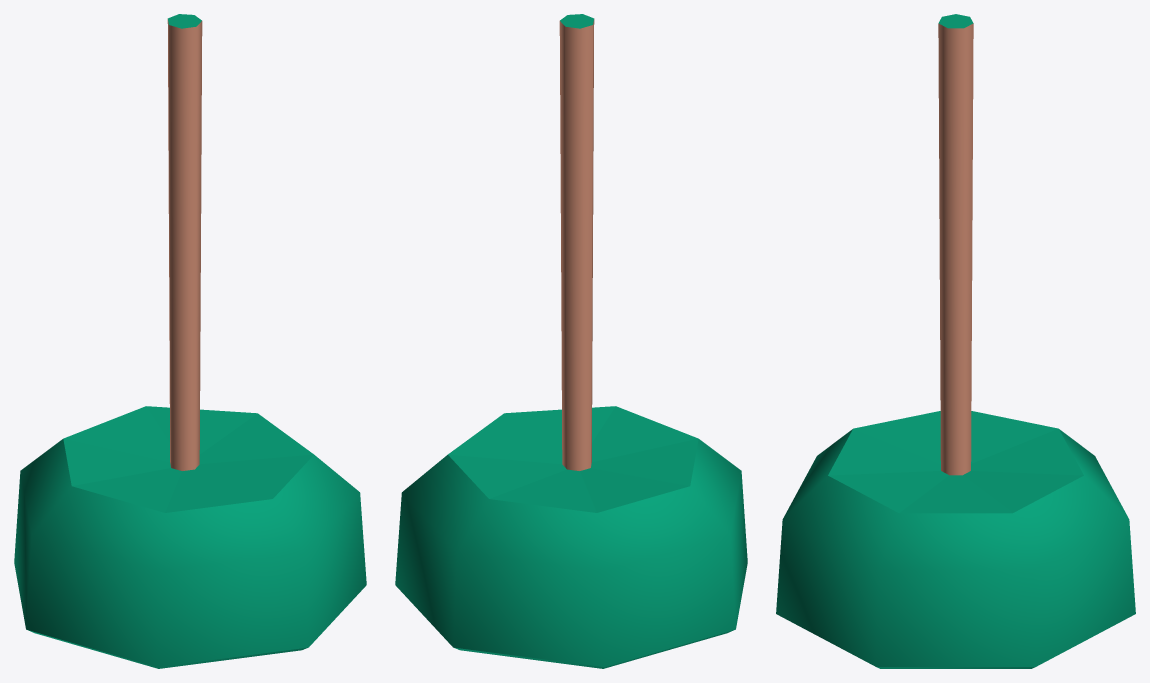
Rendered from Light_Green.fbx.
3 views of the same model, side by side, from view 1: azimuth 30°, elevation 25°; view 2: azimuth 150°, elevation 25°; view 3: azimuth 270°, elevation 25° (orthographic).
Parts seen in each view (by area): view 1: Light_Green; view 2: Light_Green; view 3: Light_Green.
Boxes of the visible parts, bbox=[...] form: Light_Green: bbox=[14, 14, 366, 668]; Light_Green: bbox=[395, 14, 747, 668]; Light_Green: bbox=[776, 14, 1135, 668].
Size of the model in its own units: 38.74 by 75.18 by 39.74.
